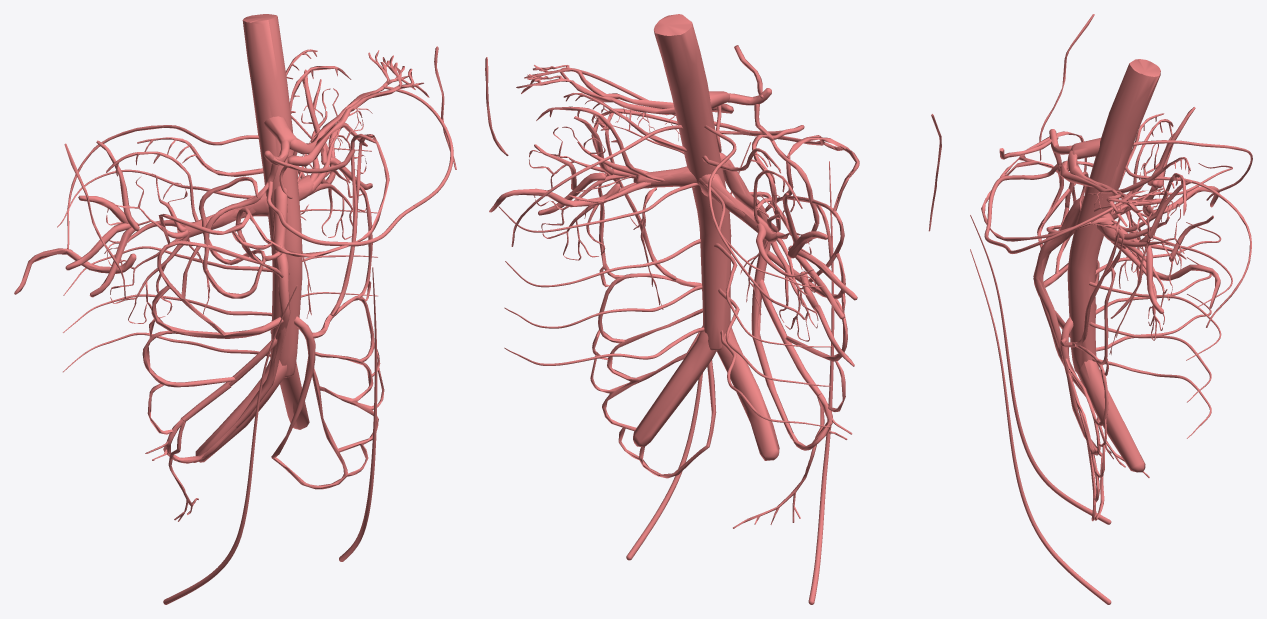
File: arteres-abdomen.lo.glb
The picture shows the model from 3 angles, left to right: view 1: azimuth 30°, elevation 25°; view 2: azimuth 150°, elevation 25°; view 3: azimuth 270°, elevation 25°; orthographic projection. The views are drawn at different scales.
Visible parts, largest first — view 1: FJ1932, FJ3636, FJ3590, FJ3638, FJ3644, FJ3542, FJ3565, FJ3604, FJ2011, FJ2562, FJ3511, FJ3442 (+13 smaller); view 2: FJ1932, FJ3464, FJ3632, FJ3565, FJ3638, FJ3636, FJ3644, FJ3604, FJ3542, FJ3590, FJ3511, FJ2562 (+15 smaller); view 3: FJ1932, FJ3464, FJ3632, FJ3511, FJ3638, FJ3636, FJ3644, FJ3604, FJ3542, FJ2562, FJ3640, FJ1977 (+20 smaller).
Part boxes in pixels (x1,y1,x2,y2): FJ1932: [242, 14, 302, 377]; FJ3636: [57, 169, 272, 372]; FJ3590: [151, 240, 283, 338]; FJ3638: [271, 352, 384, 489]; FJ3644: [163, 186, 289, 463]; FJ3542: [158, 141, 389, 277]; FJ3565: [195, 359, 286, 462]; FJ3604: [163, 286, 297, 604]; FJ2011: [166, 197, 290, 462]; FJ2562: [287, 55, 429, 166]; FJ3511: [339, 267, 377, 561]; FJ3442: [271, 316, 315, 458]; FJ1932: [654, 14, 731, 350]; FJ3464: [633, 327, 716, 446]; FJ3632: [498, 183, 704, 365]; FJ3565: [716, 327, 779, 460]; FJ3638: [590, 308, 709, 478]; FJ3636: [703, 184, 831, 427]; FJ3644: [719, 152, 832, 450]; FJ3604: [808, 161, 834, 604]; FJ3542: [613, 108, 859, 211]; FJ3590: [767, 196, 845, 299]; FJ3511: [626, 142, 750, 560]; FJ2562: [524, 65, 733, 113]; FJ1932: [1067, 59, 1160, 374]; FJ3464: [1078, 360, 1145, 472]; FJ3632: [1089, 225, 1232, 438]; FJ3511: [970, 249, 1111, 604]; FJ3638: [1065, 358, 1105, 521]; FJ3636: [1095, 163, 1232, 351]; FJ3644: [1033, 196, 1100, 396]; FJ3604: [970, 215, 1111, 524]; FJ3542: [981, 131, 1090, 248]; FJ2562: [1059, 160, 1147, 235]; FJ3640: [1066, 149, 1164, 234]; FJ1977: [1124, 166, 1251, 327].
Bounding box in the file's own units: 0.2358 × 0.3052 × 0.1525.
